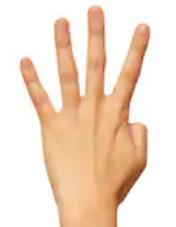right: (17, 4, 156, 205)
